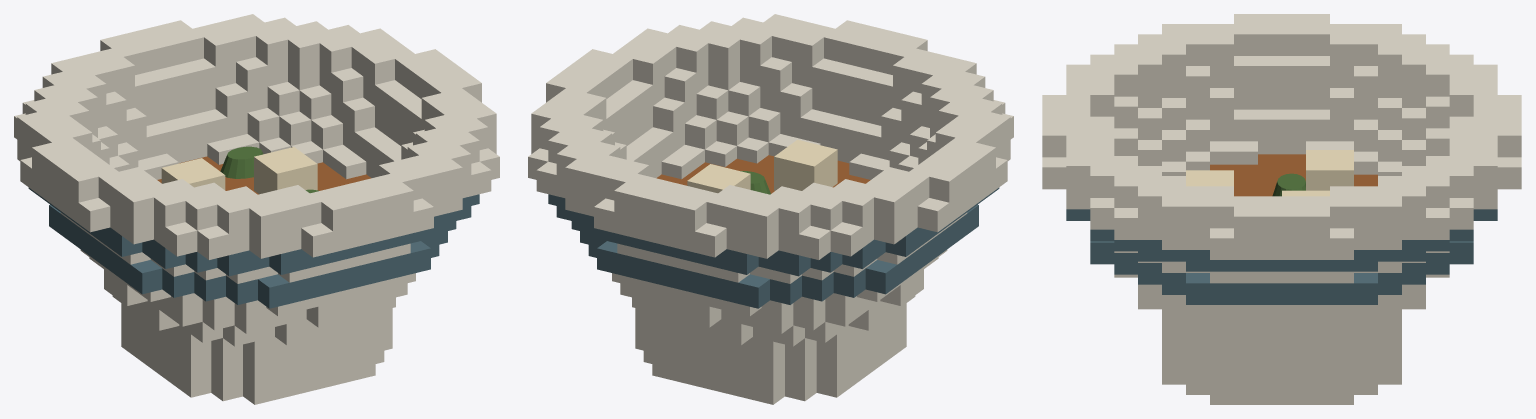
3 renders of one model, left to right at view 1: azimuth 30°, elevation 25°; view 2: azimuth 150°, elevation 25°; view 3: azimuth 270°, elevation 25°, orthographic. The views are drawn at different scales.
Parts seen in each view (by area): view 1: CHAR-182; view 2: CHAR-182; view 3: CHAR-182.
Part boxes in pixels (box(x1,y1,x2,y2)): CHAR-182: box(14, 14, 499, 404); CHAR-182: box(528, 14, 1013, 404); CHAR-182: box(1042, 14, 1521, 404).
Size of the model in its own units: 0.2 by 0.11 by 0.2.
Materials: 5 (5 with a texture image).
